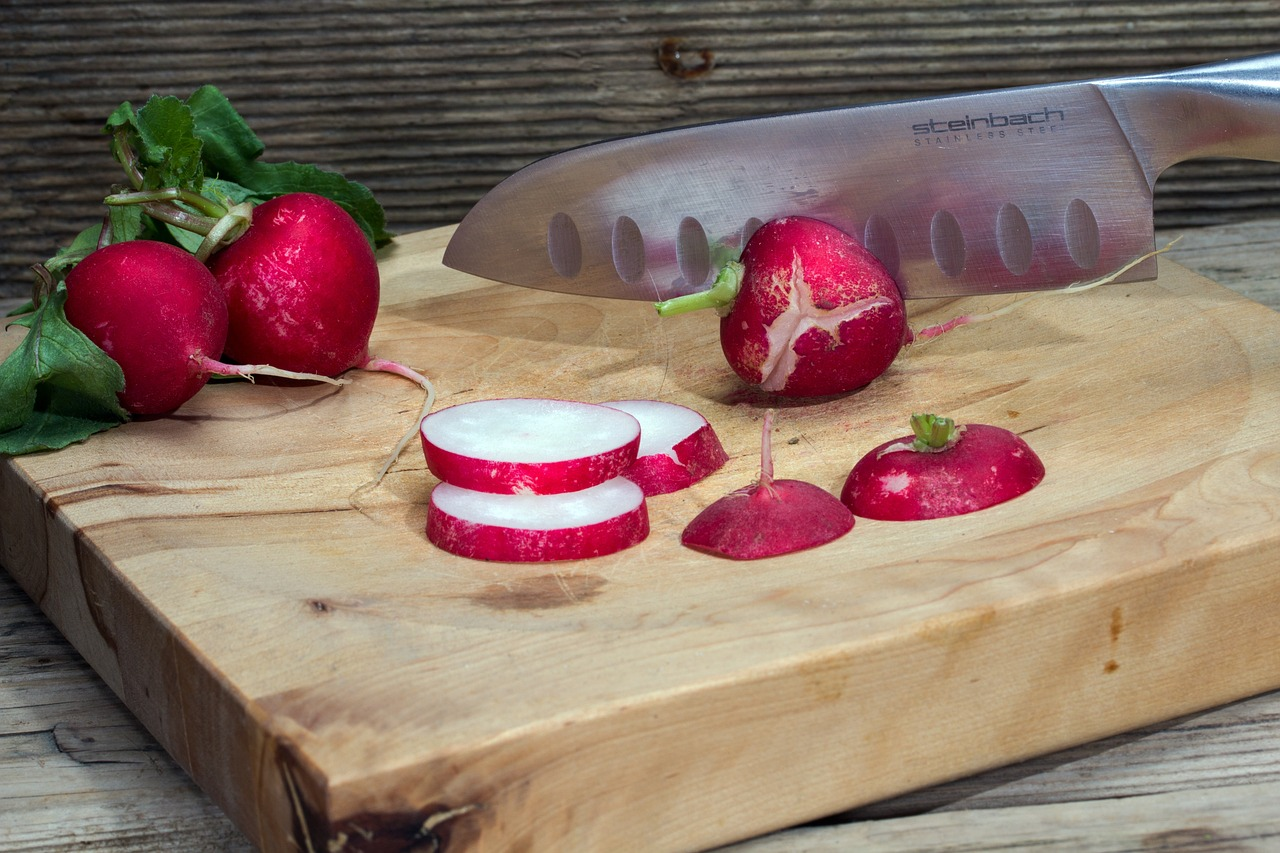knife: (422, 53, 1280, 313)
